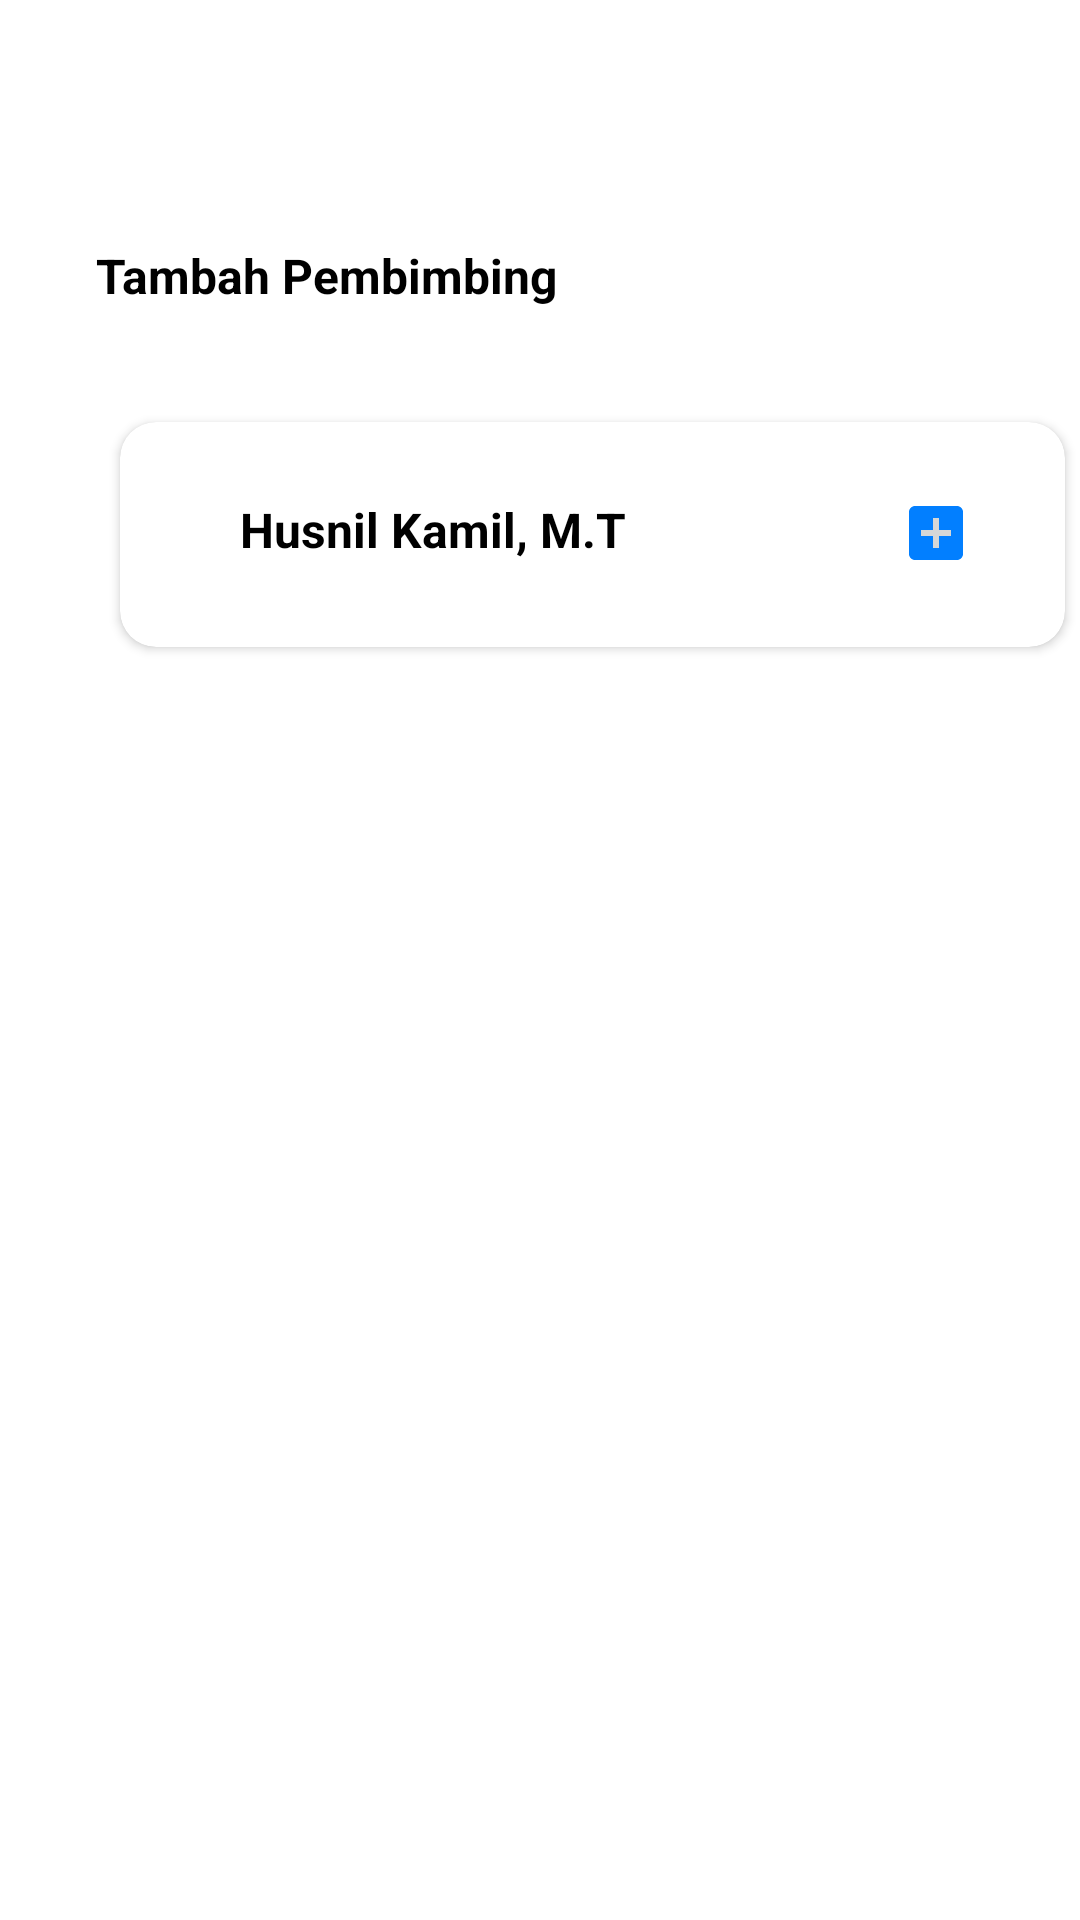

Locate icon controls on the screen. Image size 1080 × 1920, boxes as (x1, y1, x2, y2).
add: (909, 506, 963, 560)
